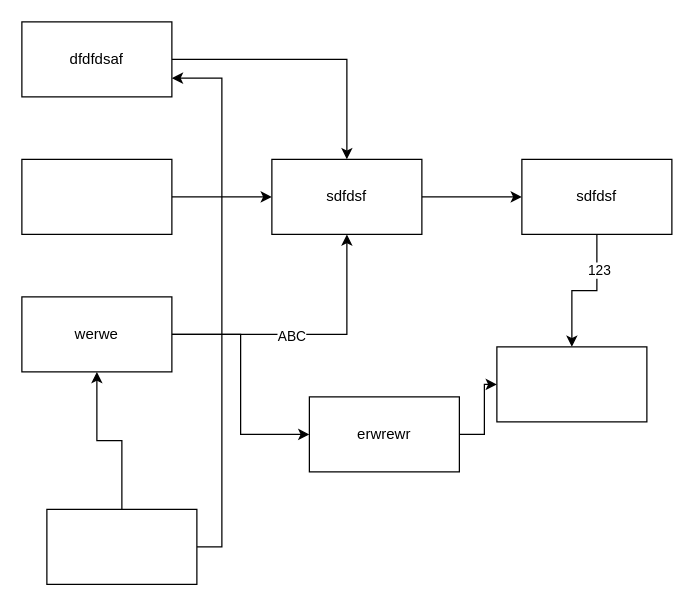
Some shapes in this 694 by 606 pixel diagram are drawn without their labels. Each missing label, with the centre of its shape:
dfdsfsd: the point at 96,196
erewr: the point at 121,546
sfdsdfsdfsd: the point at 571,384
